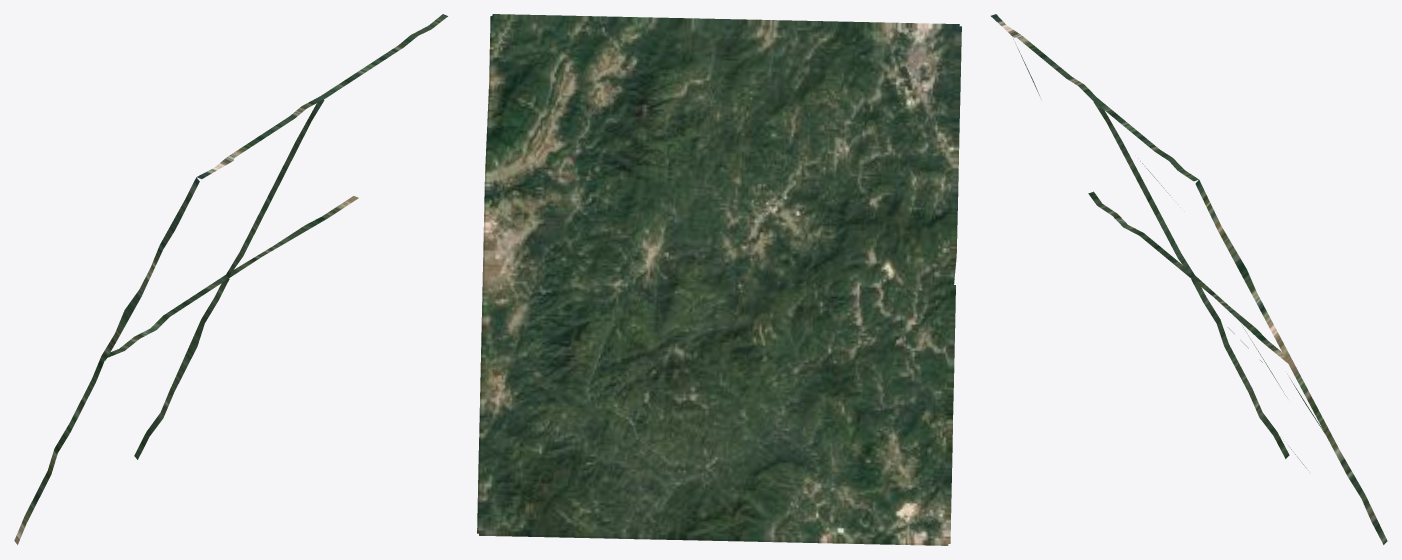
3 views of the same model, side by side, from view 1: azimuth 30°, elevation 25°; view 2: azimuth 150°, elevation 25°; view 3: azimuth 270°, elevation 25° (orthographic). The views are drawn at different scales.
Bounding box in the file's own units: 78759 × 71489 × 63386.
1 material, 1 textured.
